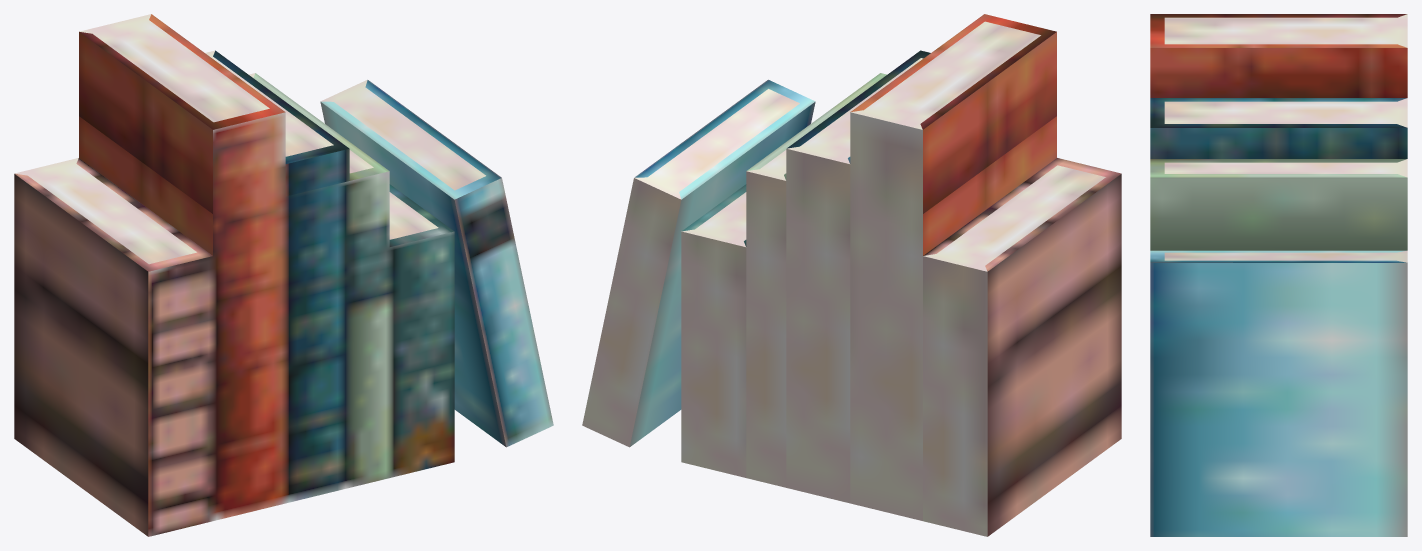
The model's file is books_alt.fbx.
3 renders of one model, left to right at view 1: azimuth 30°, elevation 25°; view 2: azimuth 150°, elevation 25°; view 3: azimuth 270°, elevation 25°, orthographic. The views are drawn at different scales.
Parts seen in each view (by area): view 1: books_alt; view 2: books_alt; view 3: books_alt.
Part boxes in pixels (box(x1,y1,x2,y2)): books_alt: box(14, 14, 553, 536); books_alt: box(582, 14, 1121, 536); books_alt: box(1150, 14, 1407, 536).
Size of the model in its own units: 39.24 by 36.18 by 22.5.
Materials: 1 (1 with a texture image).
